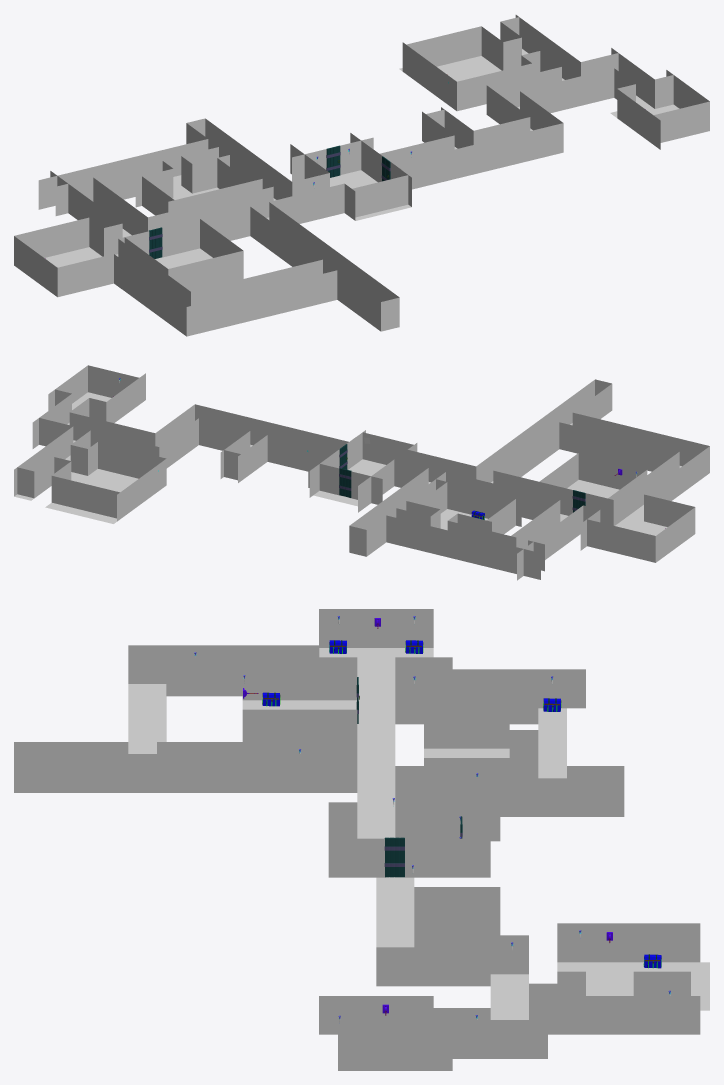
The model's file is Lvl1V3.fbx.
The picture shows the model from 3 angles, top to bottom: view 1: azimuth 30°, elevation 25°; view 2: azimuth 150°, elevation 25°; view 3: azimuth 270°, elevation 25°; orthographic projection. The views are drawn at different scales.
Parts seen in each view (by area): view 1: wall86, wall112, wall228, wall230, wall11, wall18, wall164, wall175, wall33, wall36, wall63, wall131 (+36 smaller); view 2: wall102, wall37, wall82, wall134, wall263, wall51, wall58, wall131, wall132, wall167, wall248, wall267 (+46 smaller); view 3: wall92, wall181, wall280, wall118, wall152, wall54, wall57, wall66, wall73, wall159, wall195, wall197 (+76 smaller).
Part boxes in pixels (box(x1,y1,x2,y2)): wall86: box(192, 159, 211, 193); wall112: box(162, 223, 181, 257); wall228: box(557, 77, 576, 111); wall230: box(595, 68, 614, 102); wall11: box(325, 183, 344, 217); wall18: box(370, 179, 389, 213); wall164: box(299, 275, 318, 308); wall175: box(224, 293, 243, 327); wall33: box(412, 155, 431, 189); wall36: box(450, 146, 469, 179); wall63: box(231, 206, 250, 240); wall131: box(70, 217, 89, 251); wall102: box(489, 540, 506, 571); wall37: box(267, 435, 284, 465); wall82: box(455, 532, 472, 562); wall134: box(638, 532, 655, 562); wall263: box(17, 467, 34, 498); wall51: box(403, 520, 420, 550); wall58: box(349, 526, 366, 556); wall131: box(587, 519, 604, 550); wall132: box(604, 523, 621, 554); wall167: box(559, 422, 576, 453); wall248: box(88, 365, 105, 396); wall267: box(115, 446, 132, 476); wall92: box(452, 709, 481, 748); wall181: box(185, 657, 214, 696); wall280: box(614, 923, 643, 962); wall118: box(509, 685, 538, 724); wall152: box(328, 661, 357, 700); wall54: box(509, 778, 538, 816); wall57: box(595, 778, 624, 816); wall66: box(328, 754, 357, 792); wall73: box(242, 754, 271, 792); wall159: box(185, 754, 214, 792); wall195: box(99, 754, 128, 792); wall197: box(42, 754, 71, 792).
Size of the model in its own units: 105 by 4.56 by 73.
